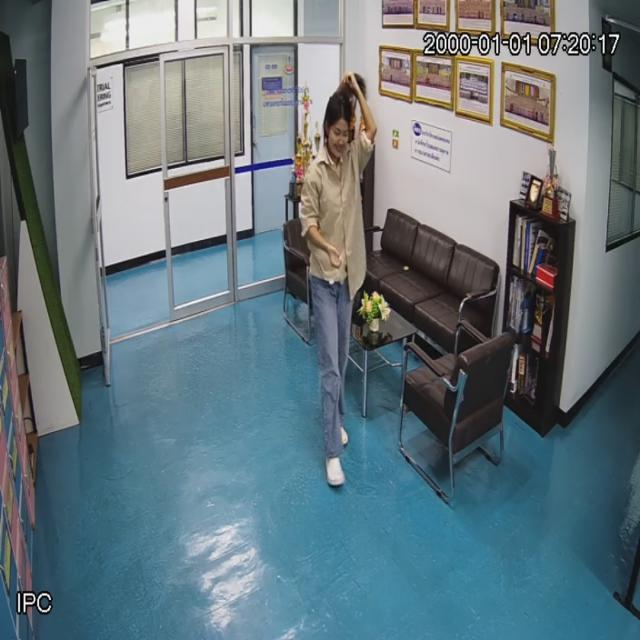normal: (304, 75, 382, 496)
